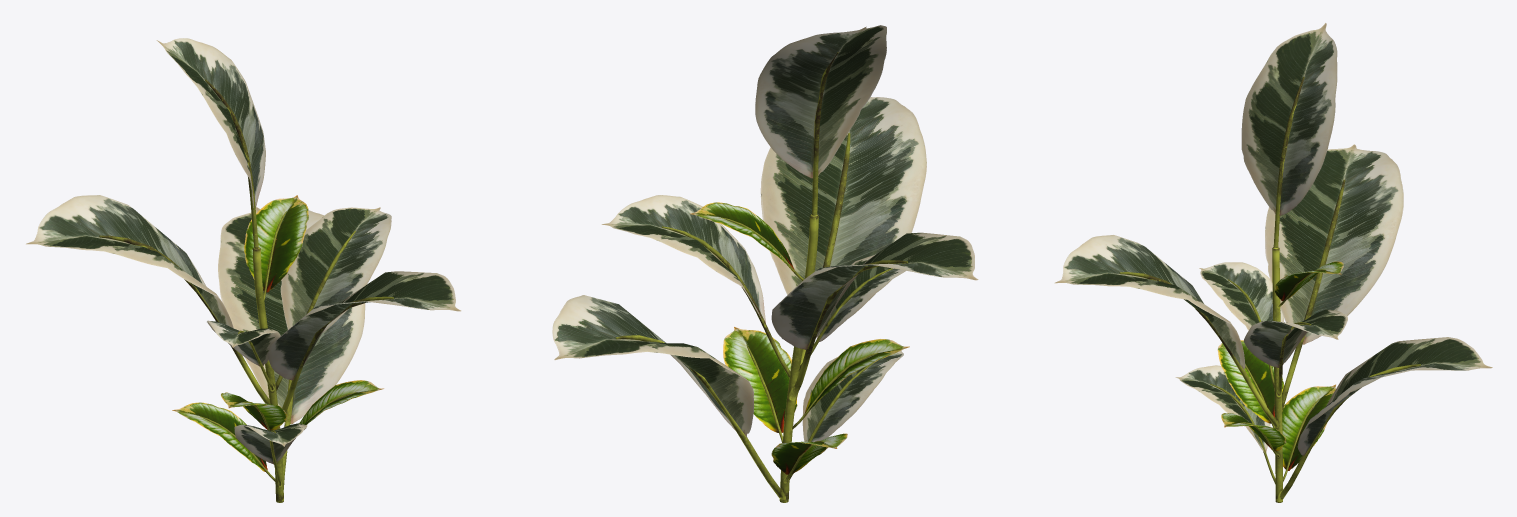
File: Plants_03.fbx
3 renders of one model, left to right at view 1: azimuth 30°, elevation 25°; view 2: azimuth 150°, elevation 25°; view 3: azimuth 270°, elevation 25°, orthographic. The views are drawn at different scales.
Parts seen in each view (by area): view 1: Ficus Elastica; view 2: Ficus Elastica; view 3: Ficus Elastica.
Boxes of the visible parts, x1,y1,x2,y2 form: Ficus Elastica: (26,38,461,502); Ficus Elastica: (552,25,978,502); Ficus Elastica: (1054,23,1492,502).
Size of the model in its own units: 4.29 by 5.05 by 5.25.
